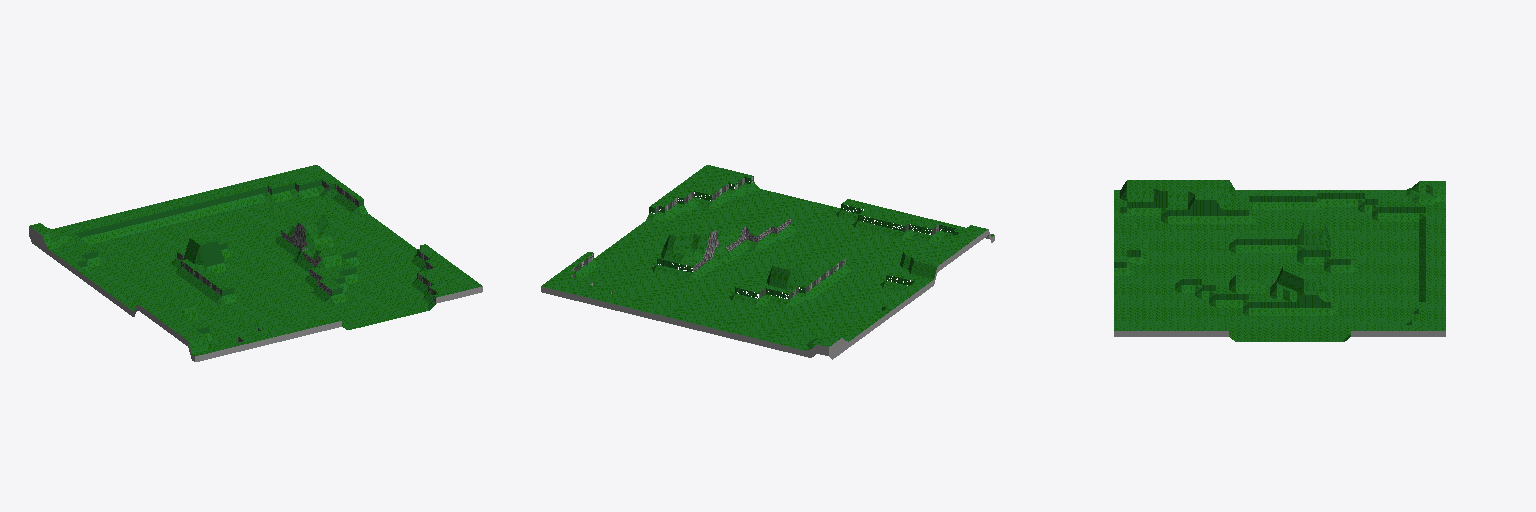
3 views of the same model, side by side, from view 1: azimuth 30°, elevation 25°; view 2: azimuth 150°, elevation 25°; view 3: azimuth 270°, elevation 25° (orthographic).
Parts seen in each view (by area): view 1: Grid; view 2: Grid; view 3: Grid.
Part boxes in pixels (left/top/right/bottom): Grid: left=29, top=165, right=482, bottom=361; Grid: left=541, top=165, right=994, bottom=359; Grid: left=1114, top=180, right=1445, bottom=341.
Size of the model in its own units: 800 by 84 by 800.
2 materials, 1 textured.